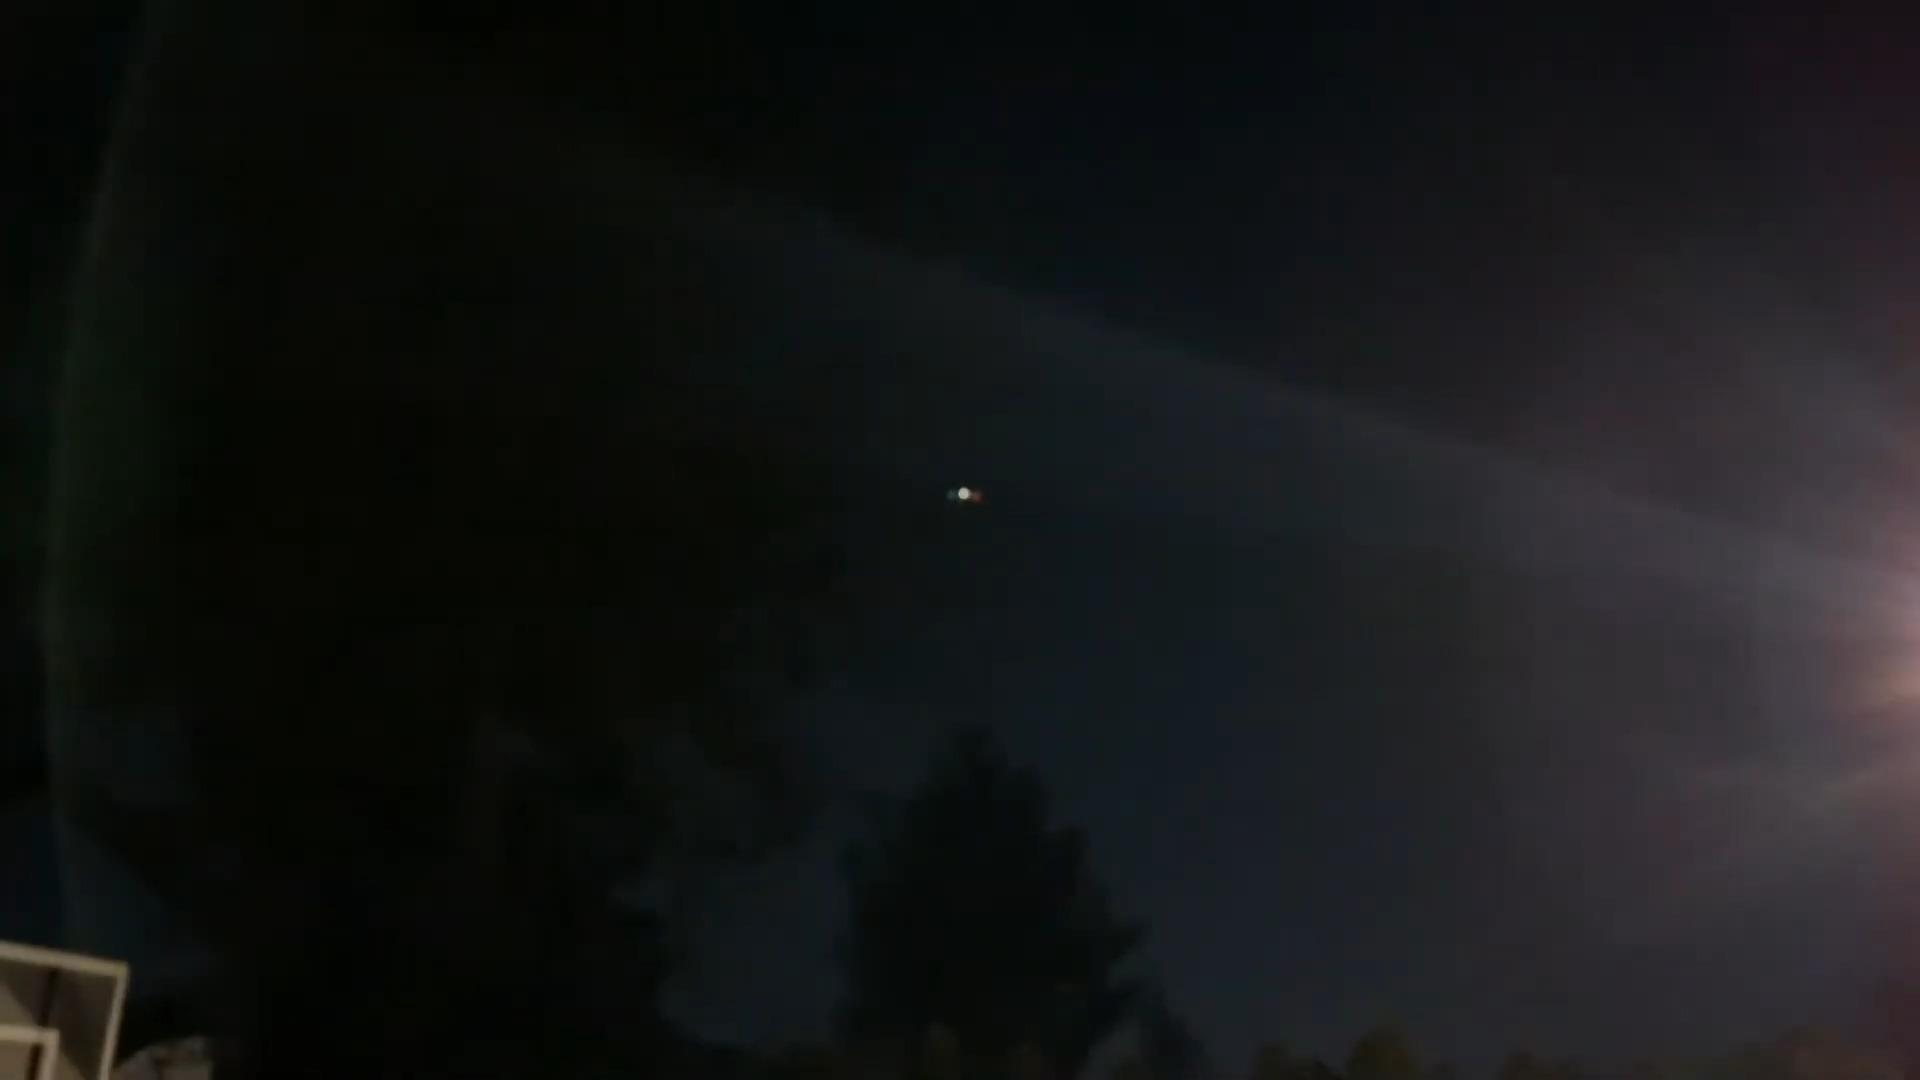Plane: (934, 479, 1005, 512)
